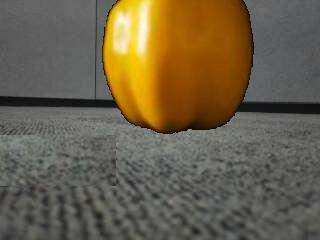Capsicum: (103, 0, 257, 134)
